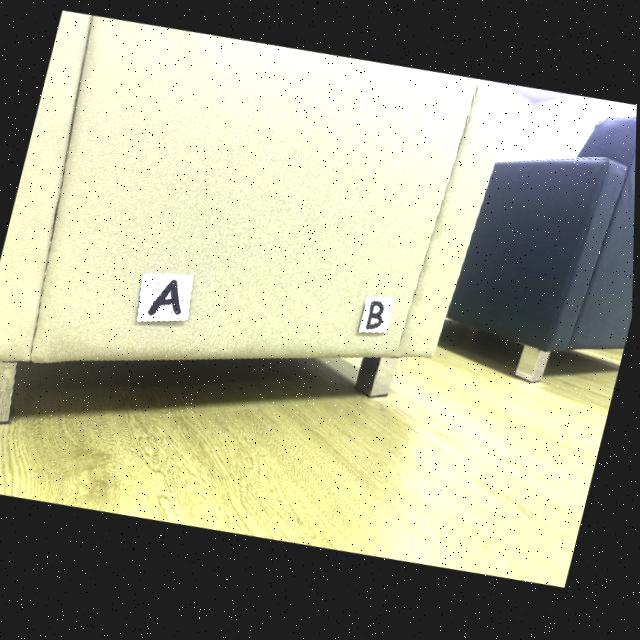A: (149, 282, 182, 317)
B: (367, 306, 386, 335)
